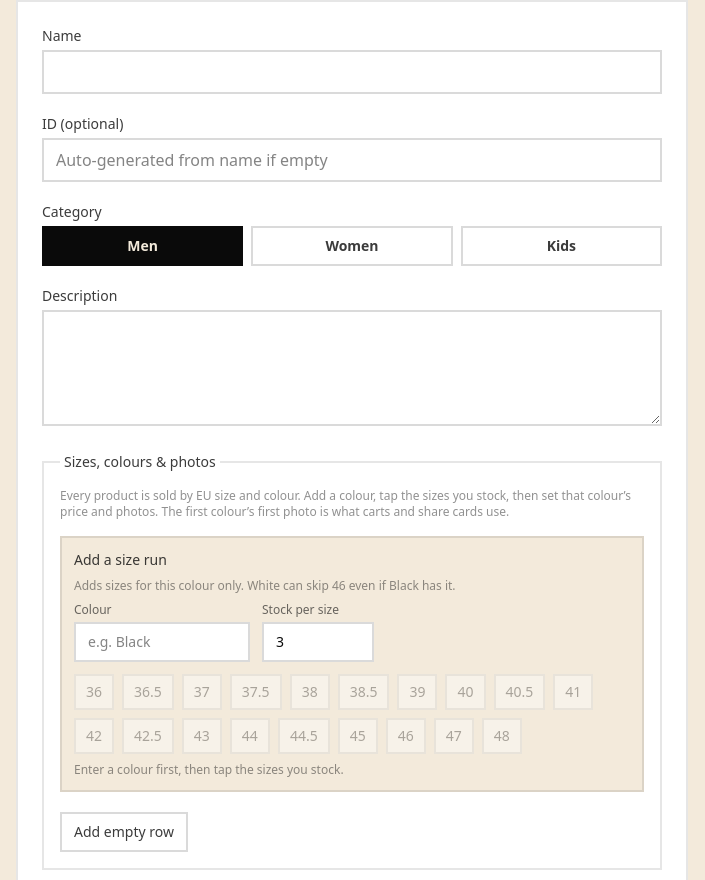
creating a product › requires sizes and colours before saving
This screenshot has width=705, height=880.
Type "Runner Low" into the field labelled "Name" at x=352, y=72, box [42,50,662,94]
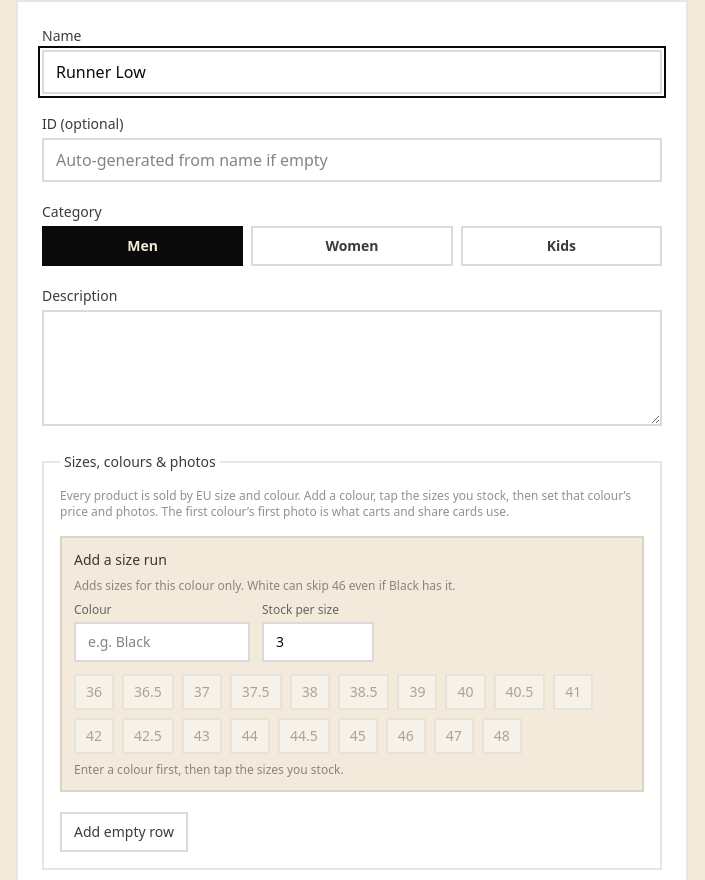
Type "A shoe" into the text box labelled "Description" at x=352, y=368, box [42,310,662,426]
(page scrolled)
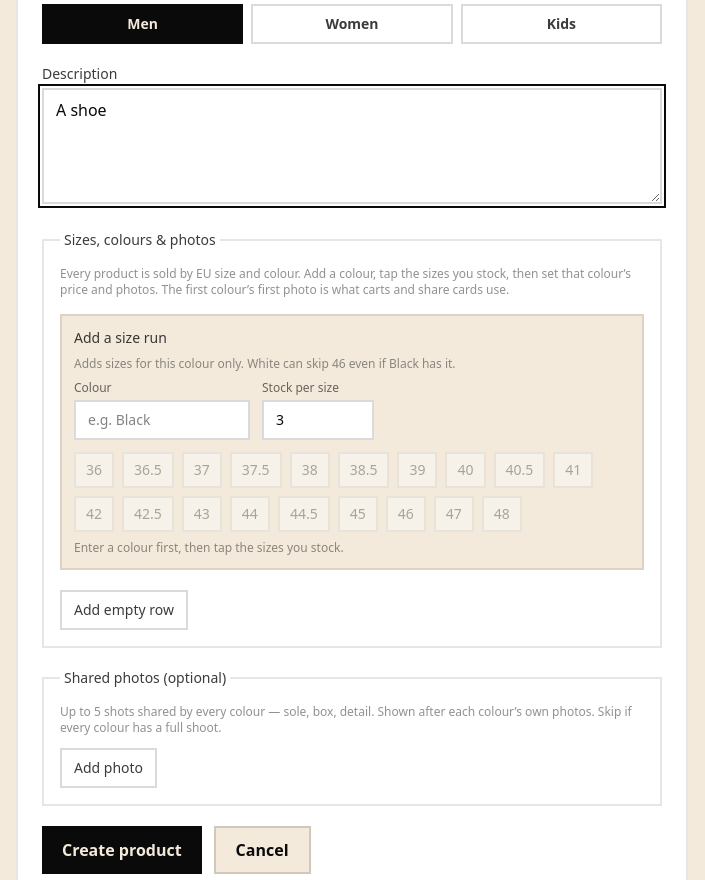
Click the button "Create product" at x=122, y=850, box [42,826,202,874]
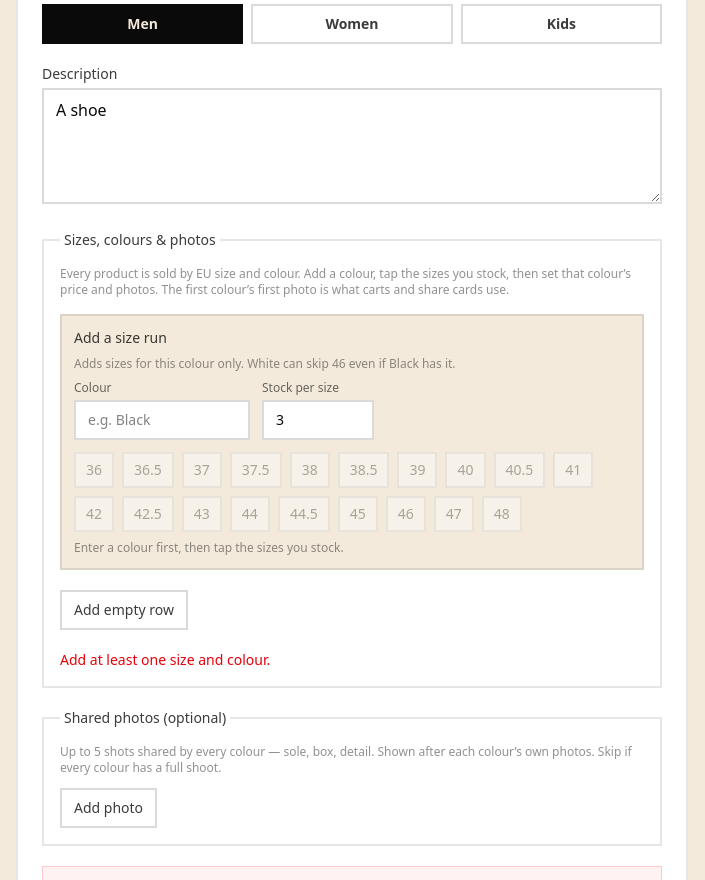
Expected: the text "Add at least one size and colour." is shown, [60,650,270,669]
